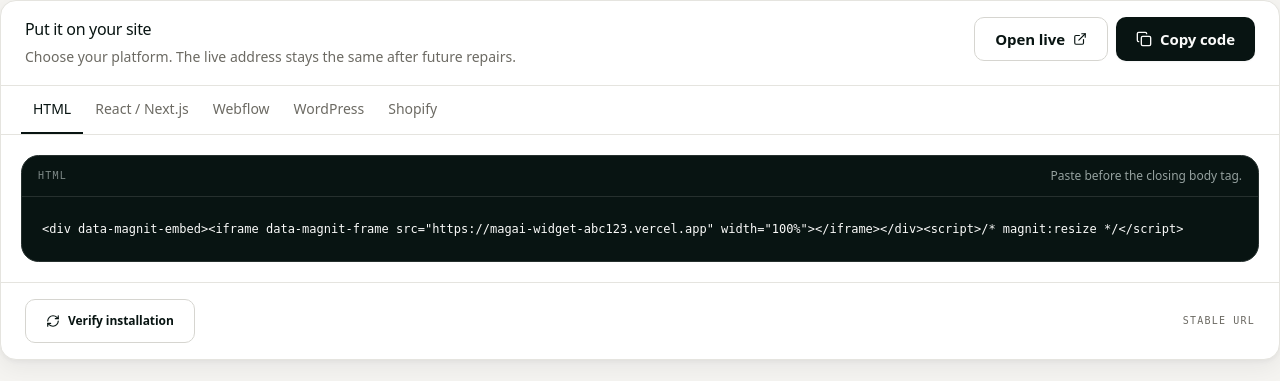
Test: EmbedCodePanel › verifies the installation against real readiness state
Step 1. Click the button "Verify installation" → (110, 321), box [25,299,195,343]
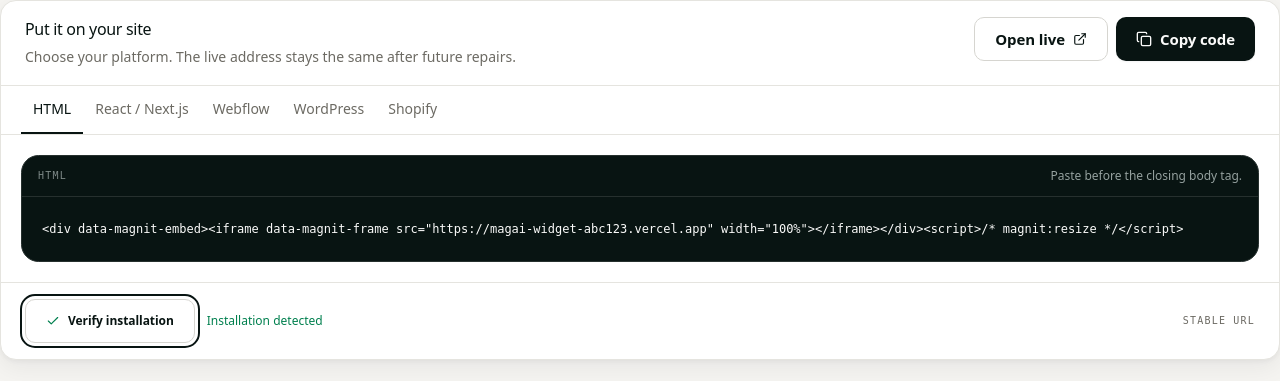
Check: the message reads "Installation detected", box [207,312,323,329]
